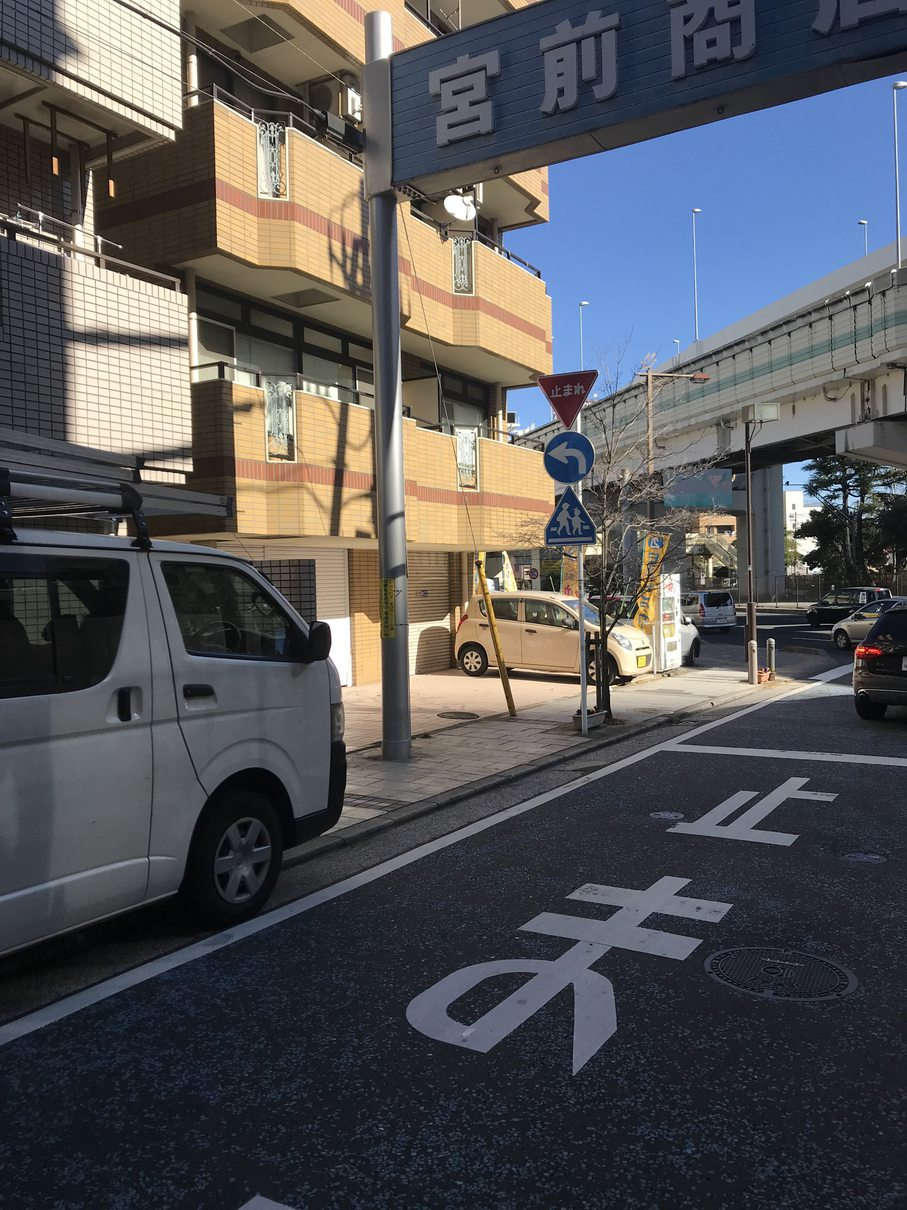stop_sign: (536, 366, 599, 430)
